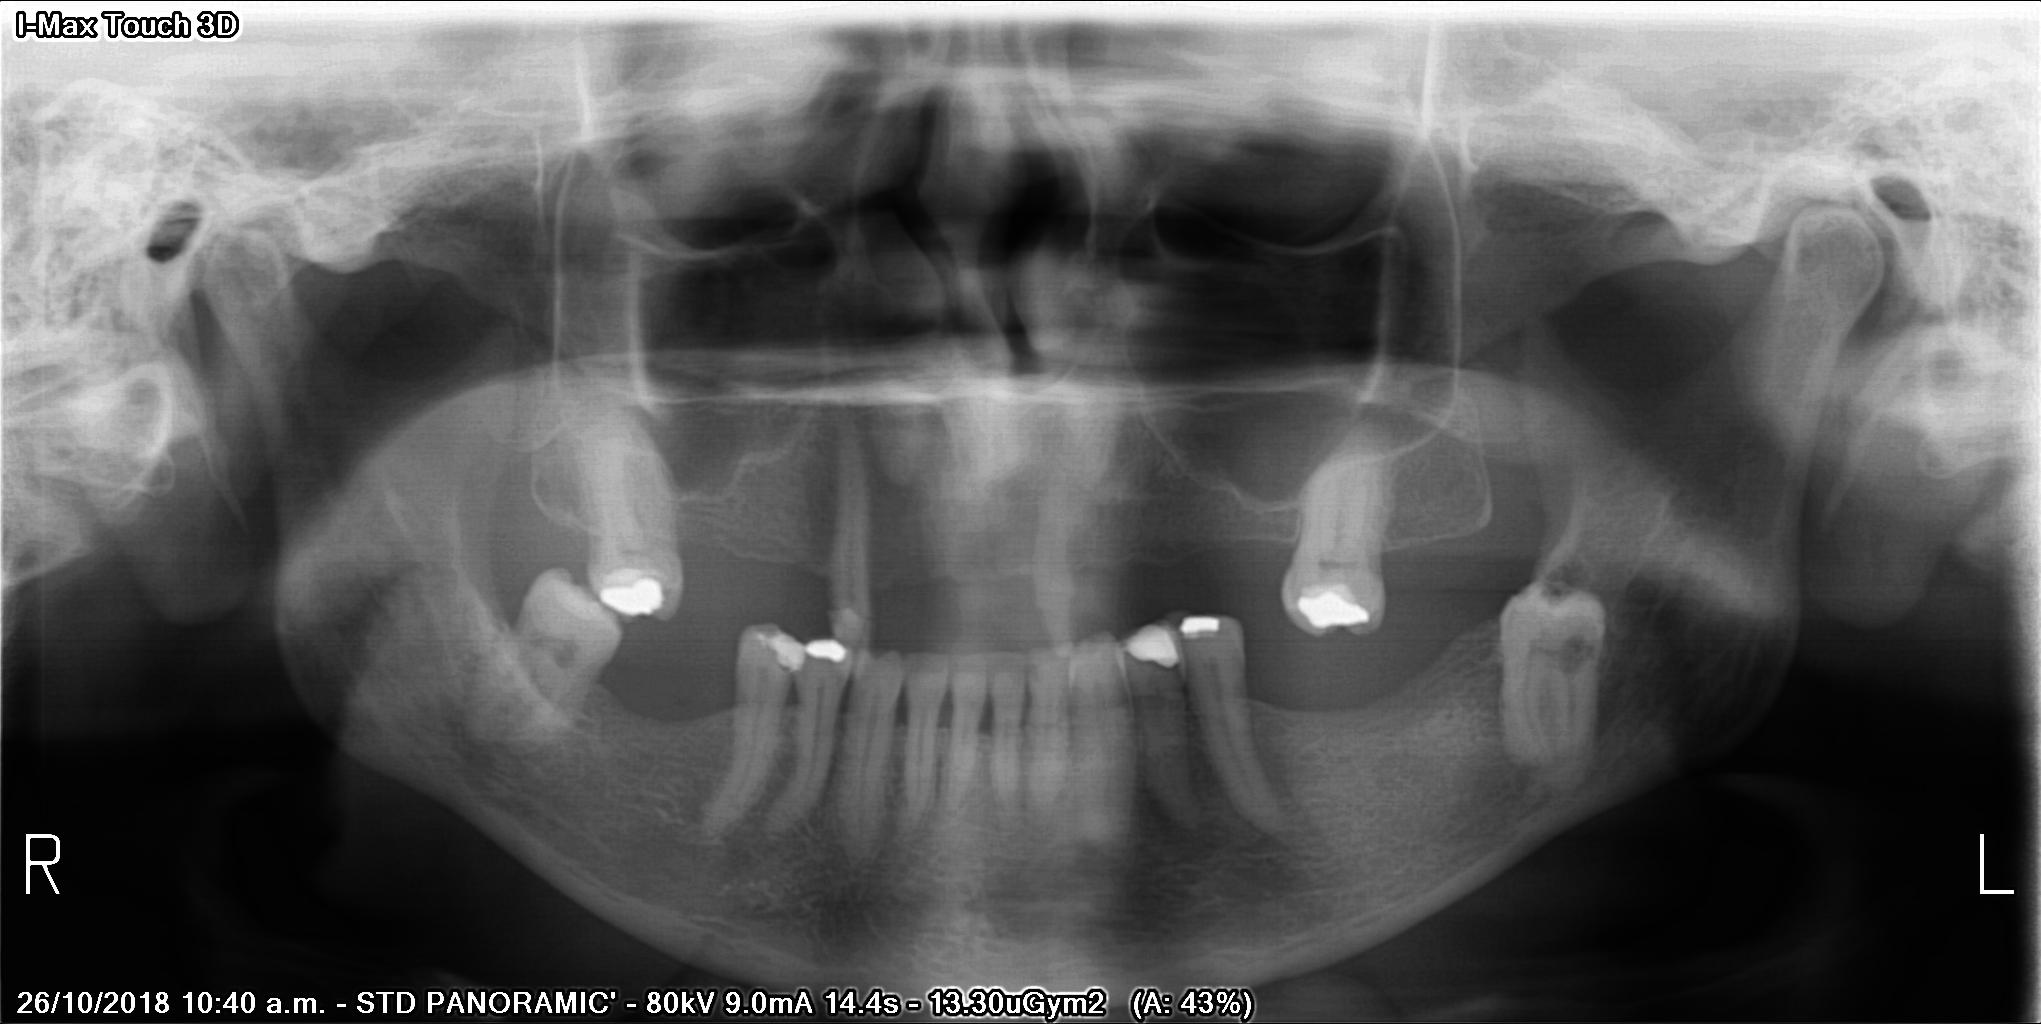Çürük: (1289, 571, 1379, 636), (588, 556, 675, 623), (742, 622, 811, 684), (1115, 614, 1192, 661), (799, 622, 854, 677), (1175, 605, 1235, 644)
Çürük Bölgesi: (1557, 635, 1600, 670), (1153, 653, 1184, 695)
